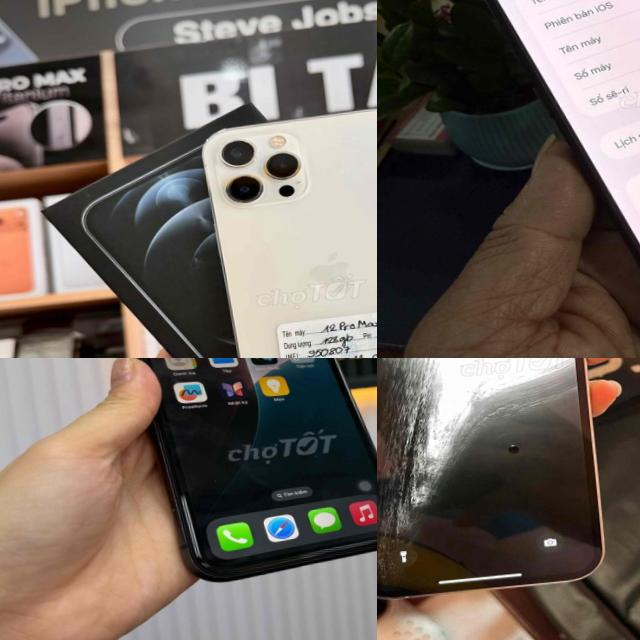gen_11: (108, 358, 377, 595)
gen_12_13: (377, 358, 640, 611), (196, 102, 377, 358)
gen_15: (451, 0, 640, 358)
